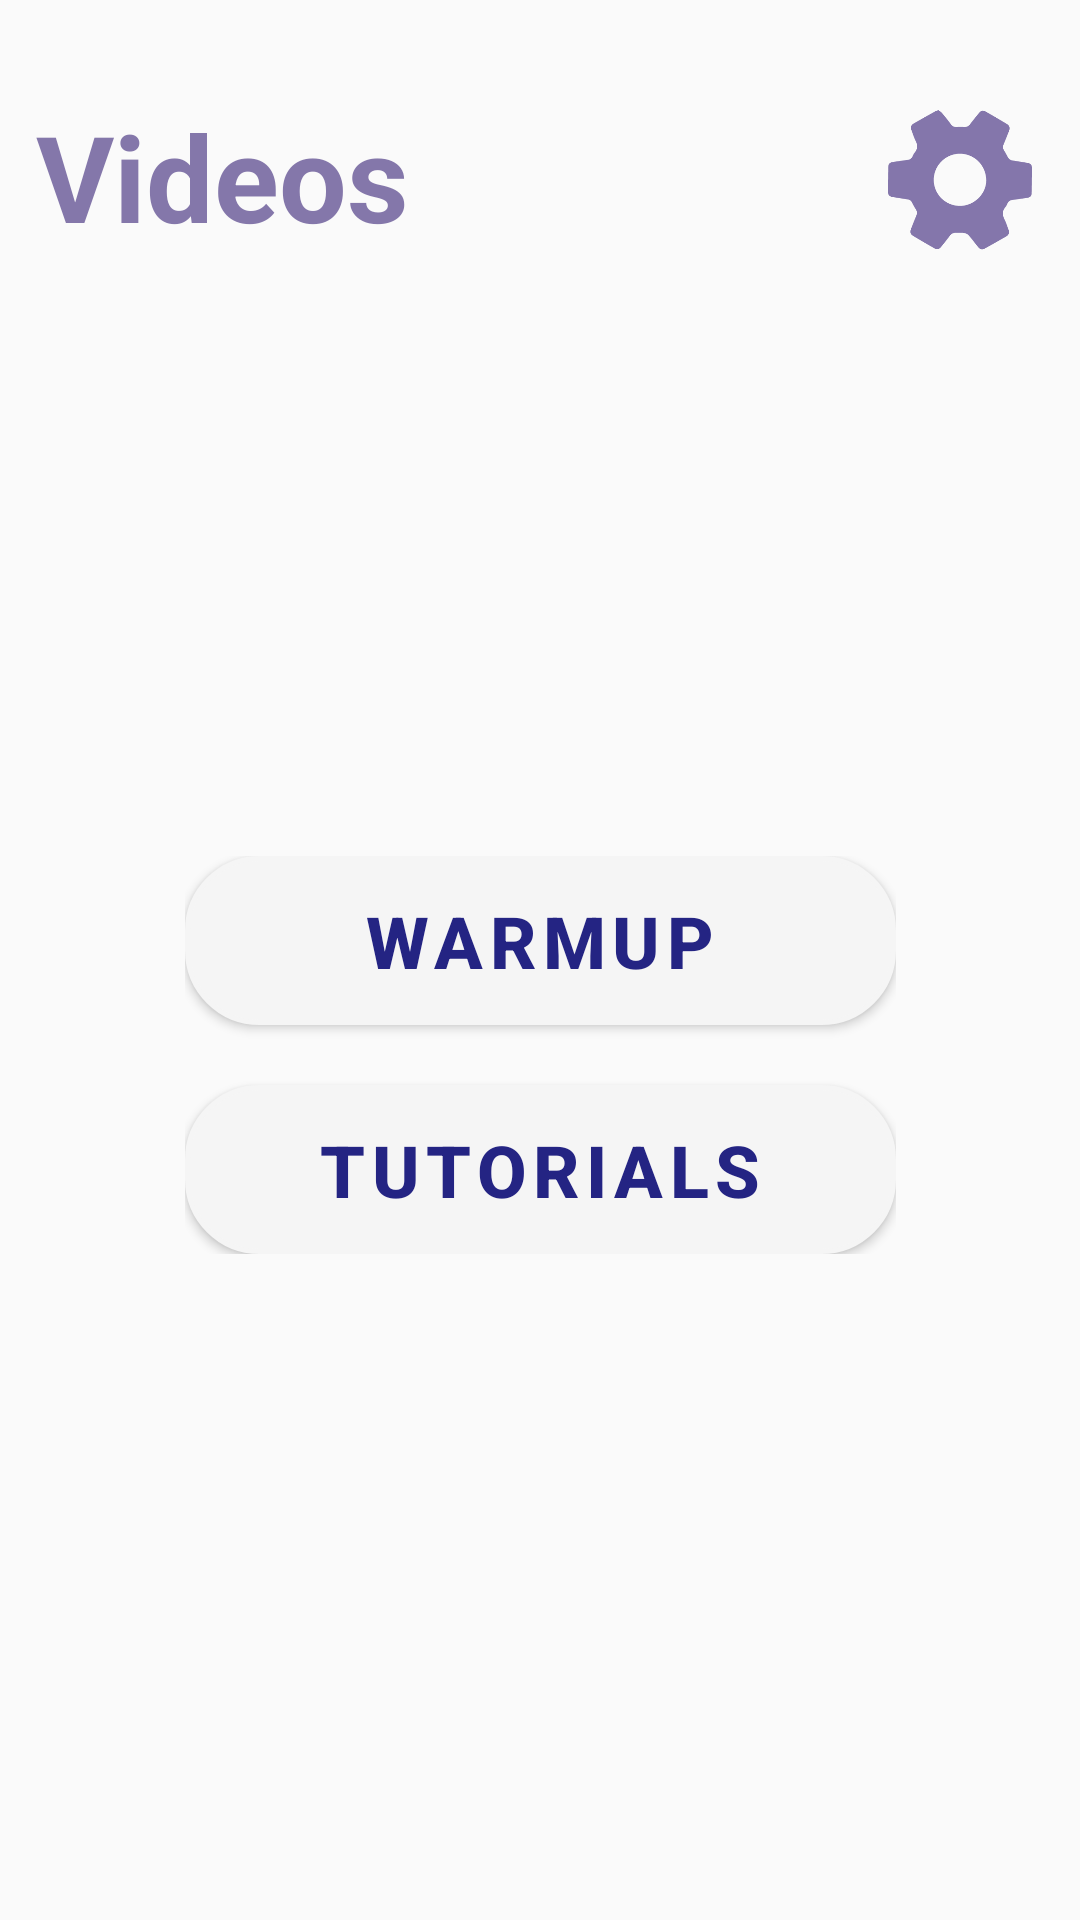

Icons on this 1080 x 1920 Android screen, each with the point to tap as [x,y]:
The Settings Button: [960,180]
